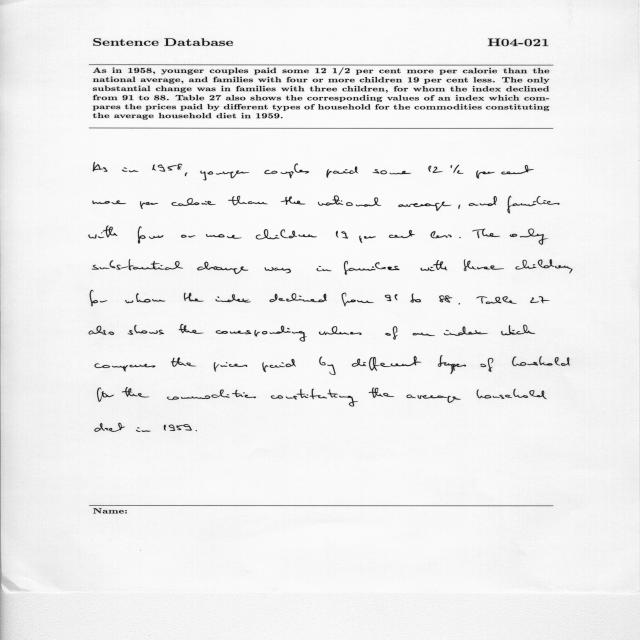word: (271, 389, 358, 407), (216, 326, 307, 342), (352, 356, 421, 371), (92, 260, 183, 271), (507, 196, 560, 213), (167, 390, 256, 400), (344, 261, 400, 275), (477, 389, 547, 399), (318, 196, 381, 207), (264, 164, 309, 179), (256, 229, 317, 240), (510, 228, 548, 245), (198, 262, 249, 274), (512, 356, 570, 366), (438, 355, 466, 374), (269, 294, 327, 303), (201, 171, 250, 181), (407, 394, 461, 403), (464, 260, 504, 272), (95, 364, 155, 372), (398, 202, 451, 211), (138, 226, 163, 244), (262, 359, 296, 372), (444, 326, 488, 336), (516, 259, 555, 270), (342, 293, 374, 306), (125, 293, 165, 303), (229, 196, 268, 206), (319, 326, 362, 335), (327, 166, 359, 178), (171, 198, 216, 206), (128, 325, 164, 335), (501, 325, 535, 335), (89, 226, 117, 238), (477, 296, 517, 304), (216, 294, 251, 303), (319, 357, 336, 375), (501, 165, 534, 174), (421, 260, 448, 271), (214, 362, 247, 371), (90, 290, 107, 307), (469, 196, 497, 206), (369, 387, 394, 398), (122, 388, 149, 398), (95, 423, 125, 432), (97, 387, 114, 402), (472, 229, 500, 238), (179, 324, 204, 334), (171, 357, 196, 367), (152, 164, 182, 172), (281, 196, 306, 205), (89, 326, 114, 335), (389, 230, 415, 238), (164, 424, 192, 431), (373, 169, 411, 174), (385, 326, 398, 340), (481, 358, 494, 372), (206, 234, 242, 239), (184, 293, 204, 302), (476, 170, 495, 179), (555, 265, 573, 274), (265, 267, 291, 273), (430, 231, 452, 238), (140, 201, 158, 209), (93, 162, 107, 172), (530, 296, 550, 303), (359, 235, 376, 243), (93, 201, 126, 205), (428, 165, 443, 173), (451, 165, 464, 174), (410, 294, 421, 303), (336, 231, 348, 239), (385, 294, 398, 301), (439, 296, 452, 303), (122, 168, 138, 173), (317, 266, 332, 271), (136, 427, 151, 432), (413, 333, 435, 336), (181, 235, 195, 238), (185, 173, 187, 177), (459, 205, 461, 209), (459, 237, 461, 238), (195, 430, 197, 431), (459, 303, 460, 304)
